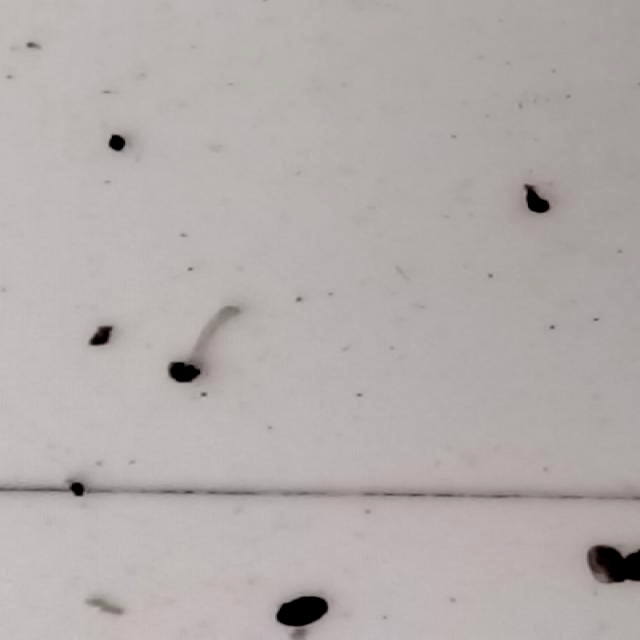varroa: (582, 543, 629, 587), (272, 594, 328, 627)
